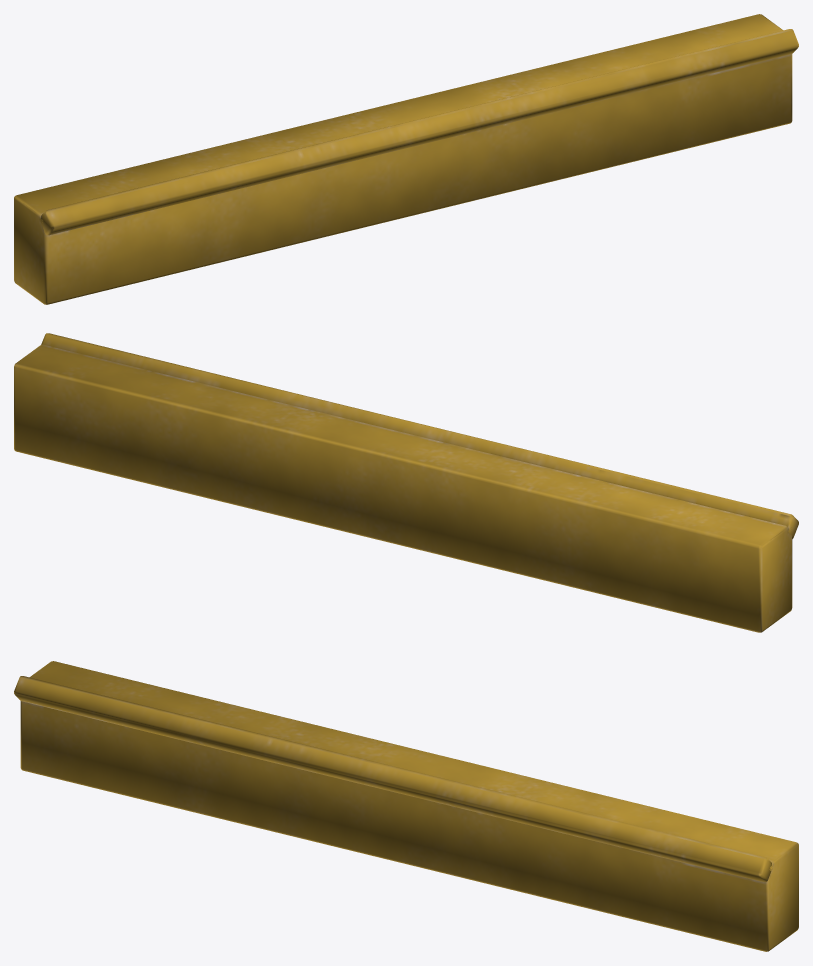
The model's file is Calle_Cordon.fbx.
3 renders of one model, top to bottom at view 1: azimuth 30°, elevation 25°; view 2: azimuth 150°, elevation 25°; view 3: azimuth 330°, elevation 25°, orthographic.
Parts seen in each view (by area): view 1: Calle_Cordon; view 2: Calle_Cordon; view 3: Calle_Cordon.
Part boxes in pixels (x1,y1,x2,y2): Calle_Cordon: [14, 14, 798, 304]; Calle_Cordon: [14, 333, 798, 632]; Calle_Cordon: [14, 661, 798, 951].
Bounding box in the file's own units: 8 × 0.979 × 0.729.
